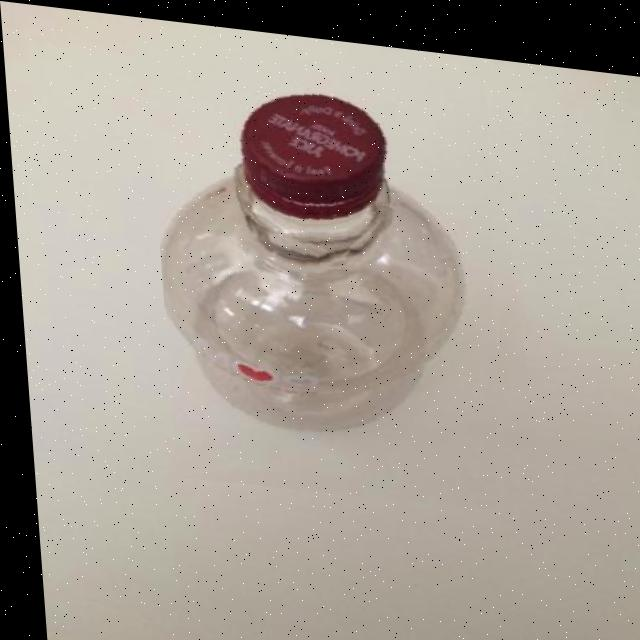plasticbottle: (144, 33, 534, 507)
plasticbottlecap: (230, 55, 432, 261)
